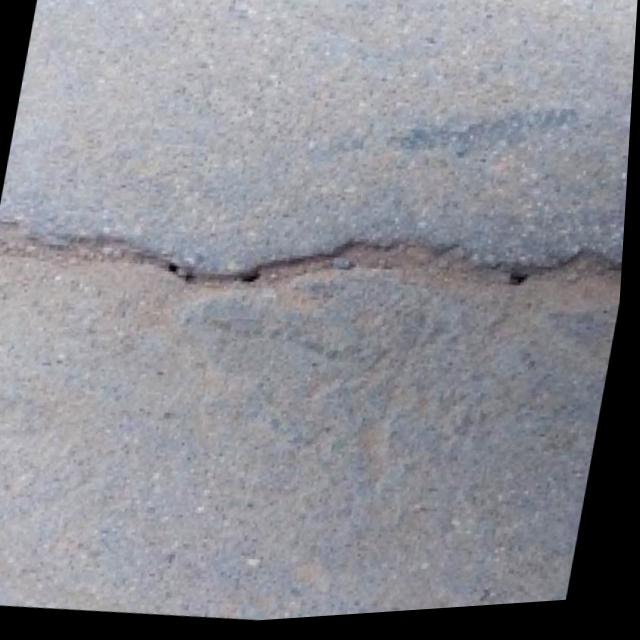Crack: (0, 144, 632, 405)
